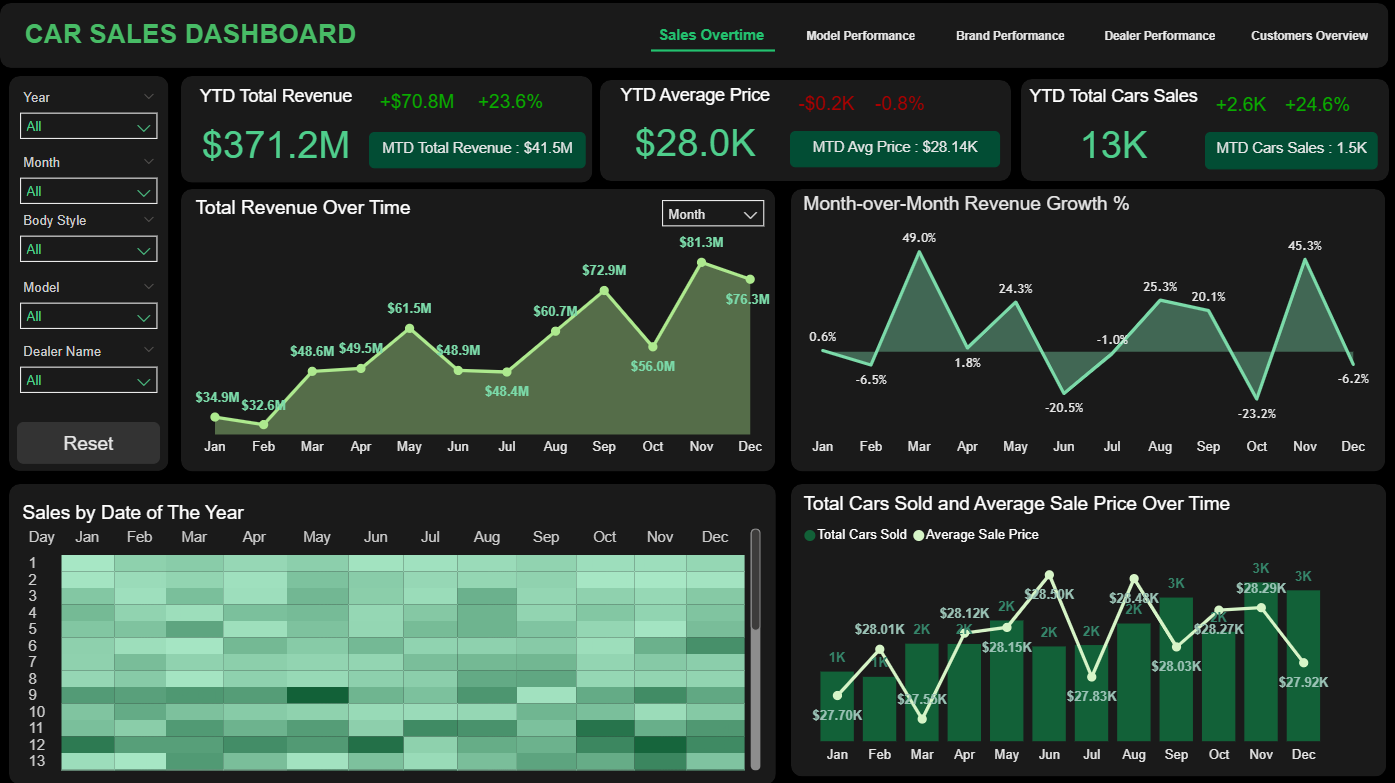

The dashboard page shown, as its layout file describes it:
{"tool":"powerbi","page":{"name":"Sales Overtime ","canvas":[1280,720],"ordinal":0},"visuals":[{"type":"shape","box":[1003,72.5,264.2,93.1],"z":0},{"type":"shape","box":[726.3,72.5,264.2,93.1],"z":1000},{"type":"shape","box":[5.5,6.4,156.4,159.1],"z":2000},{"type":"shape","box":[171.9,6.3,1097,59.1],"z":3000},{"type":"shape","box":[6.4,175.5,157.3,531.8],"z":4000},{"type":"shape","box":[447.8,72.5,264.2,93.1],"z":5000},{"type":"shape","box":[171.8,72.7,264.5,92.7],"z":6000},{"type":"shape","box":[172.2,175.1,1097.1,257.8],"z":7000},{"type":"shape","box":[172.2,441.6,1097.1,265.5],"z":8000},{"type":"slicer","fields":{"Values":["DateTable.Year"]},"box":[13.6,196.4,139.1,58.2],"z":9000},{"type":"lineChart","title":"Total Revenue over Time","fields":{"Category":["DateTable.Date"],"Y":["Measrure.Total Revenue"]},"box":[172.8,183.6,1094.3,249.9],"z":10000},{"type":"slicer","fields":{"Values":["Car Model.Engine"]},"box":[13.6,338.2,139.1,59.1],"z":11000},{"type":"slicer","fields":{"Values":["Car Model.Model"]},"box":[13.6,412.7,139.1,58.2],"z":12000},{"type":"slicer","fields":{"Values":["Dealer.Dealer_Name"]},"box":[12.7,566.4,139.1,59.1],"z":13000},{"type":"slicer","fields":{"Values":["Car Model.Body Style"]},"box":[12.7,488.2,139.1,59.1],"z":14000},{"type":"card","title":"YTD Total Revenue","fields":{"Values":["Measrure.YTD Revenue"]},"box":[171.8,87.3,138.2,78.2],"z":15000},{"type":"textbox","box":[456.2,15.6,539.8,39.9],"z":16000},{"type":"textbox","box":[12.6,12.6,96.3,29.2],"z":17000},{"type":"actionButton","box":[13.6,640.9,139.1,39.1],"z":18000},{"type":"slicer","fields":{"Values":["DateTable.Month Name"]},"box":[15.5,267.3,139.1,58.2],"z":19000},{"type":"slicer","fields":{"Values":["Parameter.Parameter"]},"box":[391.3,175.5,112.8,42.1],"z":20000},{"type":"pivotTable","title":"Sales by Date of The Year","fields":{"Values":["Measrure.Total Revenue"],"Rows":["DateTable.Day"],"Columns":["DateTable.Month Name"]},"box":[179,450.3,1080.6,250.9],"z":21000},{"type":"pageNavigator","box":[13.6,41.8,139.1,114.5],"z":22000},{"type":"card","fields":{"Values":["Sales.Revenue Diff and Icon"]},"box":[310,72.7,68.2,46.4],"z":23000},{"type":"card","fields":{"Values":["Measrure.YOY Revenue Growth and Icon"]},"box":[375.4,72.9,61.3,45.7],"z":24000},{"type":"card","fields":{"Values":["Measrure.Avg Sale Price Diff and Icon"]},"box":[592.7,72.7,64.5,46.4],"z":25000},{"type":"card","fields":{"Values":["Measrure.YOY Avg Price Growth and Icon"]},"box":[657.5,72.9,54.5,45.7],"z":26000},{"type":"card","title":" YTD Average Price","fields":{"Values":["Measrure.YTD Avg Sale Price"]},"box":[451.3,86.9,145.1,78.8],"z":27000},{"type":"card","title":"YTD Total Cars Sales","fields":{"Values":["Measrure.YTD Total Cars Sold"]},"box":[726.4,87.3,153.6,78.2],"z":28000},{"type":"card","fields":{"Values":["Measrure.Total Cars Sold Diff and Icon"]},"box":[880,72.7,49.1,46.4],"z":29000},{"type":"card","fields":{"Values":["Measure.YOY Total Cars Sold Growth and Icon"]},"box":[928.9,72.9,62.2,45.7],"z":30000},{"type":"card","title":"YTD Total Customers","fields":{"Values":["Measure.YTD Total Customers"]},"box":[1002.7,87.3,153.6,78.2],"z":31000},{"type":"card","fields":{"Values":["Measure.Total Customers Diff and Icon"]},"box":[1156.4,72.7,51.8,46.4],"z":32000},{"type":"card","fields":{"Values":["Measure.YOY Total Customers Growth and Icon"]},"box":[1205.1,72.9,62.2,45.7],"z":33000},{"type":"lineChart","fields":{"Category":["DateTable.Month Number"],"Y":["Measure.Total Revenue"]},"box":[304.5,86,163.9,78.8],"z":34000},{"type":"lineChart","fields":{"Category":["DateTable.Month Number"],"Y":["Measure.Average Sale Price"]},"box":[580.3,99.4,160.3,65.4],"z":35000},{"type":"lineChart","fields":{"Category":["DateTable.Month Number"],"Y":["Measure.Total Cars Sold"]},"box":[873.1,96.7,137,68.1],"z":36000},{"type":"lineChart","fields":{"Category":["DateTable.Month Number"],"Y":["Customer.Total Customers"]},"box":[1151.6,96.7,128.1,68.1],"z":37000}]}

Visuals, with their boxes in screenshot pixels (x1, y1, x2, y2), scaled from the page's 1280x720 canvas onto the 1395x783 screenshot:
shape: <box>1093,79,1381,180</box>
shape: <box>792,79,1079,180</box>
shape: <box>6,7,176,180</box>
shape: <box>187,7,1383,71</box>
shape: <box>7,191,178,769</box>
shape: <box>488,79,776,180</box>
shape: <box>187,79,475,180</box>
shape: <box>188,190,1383,471</box>
shape: <box>188,480,1383,769</box>
slicer - DateTable.Year: <box>15,214,166,277</box>
"Total Revenue over Time" lineChart: <box>188,200,1381,471</box>
slicer - Car Model.Engine: <box>15,368,166,432</box>
slicer - Car Model.Model: <box>15,449,166,512</box>
slicer - Dealer.Dealer_Name: <box>14,616,165,680</box>
slicer - Car Model.Body Style: <box>14,531,165,595</box>
"YTD Total Revenue" card: <box>187,95,338,180</box>
textbox: <box>497,17,1085,60</box>
textbox: <box>14,14,119,45</box>
actionButton: <box>15,697,166,739</box>
slicer - DateTable.Month Name: <box>17,291,168,354</box>
slicer - Parameter.Parameter: <box>426,191,549,237</box>
"Sales by Date of The Year" pivotTable: <box>195,490,1373,763</box>
pageNavigator: <box>15,45,166,170</box>
card - Sales.Revenue Diff and Icon: <box>338,79,412,130</box>
card - Measrure.YOY Revenue Growth and Icon: <box>409,79,476,129</box>
card - Measrure.Avg Sale Price Diff and Icon: <box>646,79,716,130</box>
card - Measrure.YOY Avg Price Growth and Icon: <box>717,79,776,129</box>
" YTD Average Price" card: <box>492,95,650,180</box>
"YTD Total Cars Sales" card: <box>792,95,959,180</box>
card - Measrure.Total Cars Sold Diff and Icon: <box>959,79,1013,130</box>
card - Measure.YOY Total Cars Sold Growth and Icon: <box>1012,79,1080,129</box>
"YTD Total Customers" card: <box>1093,95,1260,180</box>
card - Measure.Total Customers Diff and Icon: <box>1260,79,1317,130</box>
card - Measure.YOY Total Customers Growth and Icon: <box>1313,79,1381,129</box>
lineChart - DateTable.Month Number x Measure.Total Revenue: <box>332,94,510,179</box>
lineChart - DateTable.Month Number x Measure.Average Sale Price: <box>632,108,807,179</box>
lineChart - DateTable.Month Number x Measure.Total Cars Sold: <box>952,105,1101,179</box>
lineChart - DateTable.Month Number x Customer.Total Customers: <box>1255,105,1394,179</box>
